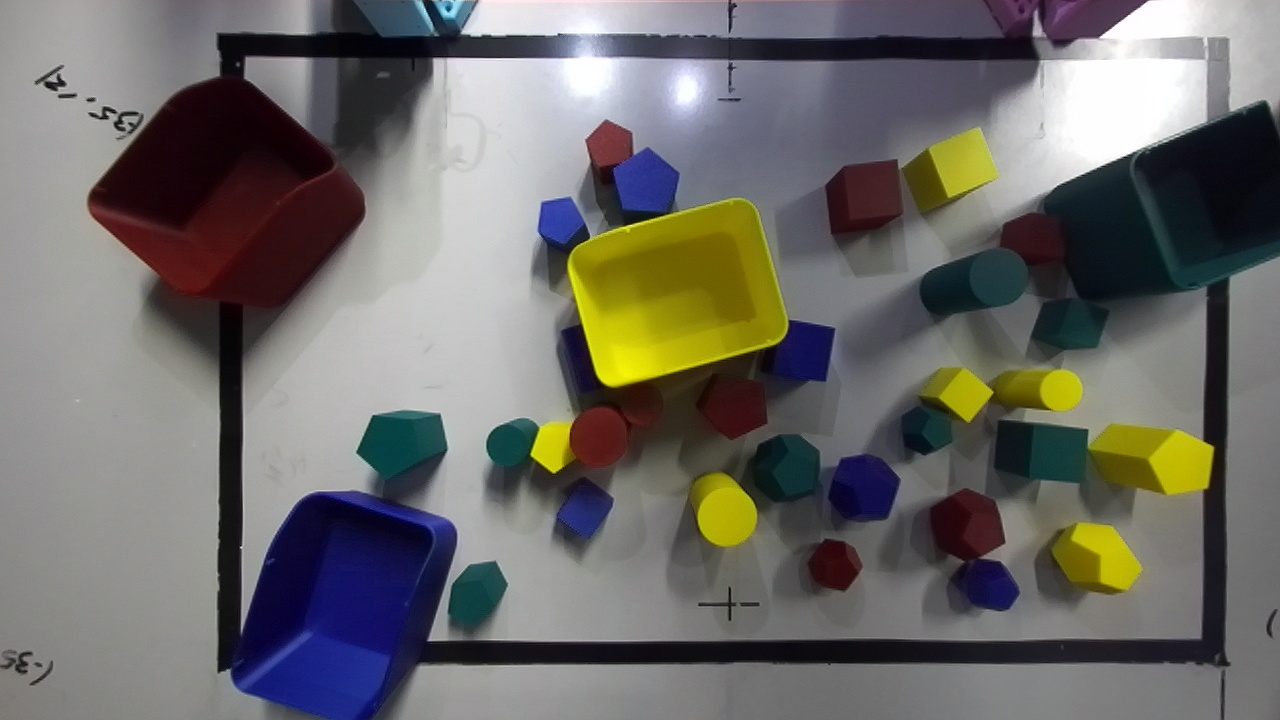bin: (88, 76, 364, 306), (231, 492, 455, 719), (1043, 101, 1279, 298), (568, 198, 788, 386)
cube: (902, 127, 997, 212), (994, 419, 1087, 482), (825, 160, 902, 233), (759, 320, 834, 381), (919, 367, 992, 422), (556, 324, 604, 407), (1031, 298, 1108, 349), (556, 477, 613, 537), (1000, 213, 1065, 264)
cylinder: (920, 248, 1028, 314), (689, 472, 756, 546), (990, 369, 1082, 410), (569, 405, 628, 467), (486, 418, 538, 466), (619, 382, 663, 427)
dodecahedron: (1052, 522, 1141, 592), (930, 489, 1004, 560), (828, 454, 899, 520), (753, 434, 819, 501), (952, 559, 1019, 610), (808, 539, 862, 590), (901, 406, 952, 454)
hexagonal: (1088, 423, 1213, 494), (356, 410, 446, 478), (613, 147, 678, 223), (697, 375, 766, 438), (448, 561, 507, 627), (585, 119, 633, 183), (537, 196, 589, 251), (530, 421, 575, 473)
